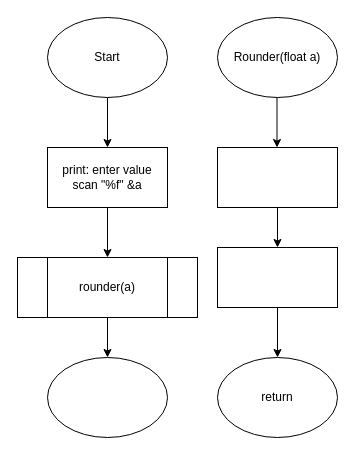
This 355x455 diagram has some shape labels left out. The shapes that lost their labels are listed below. From the top down, each one's centre as x and y in pixels, then its label:
point 277,177: b = (int)(a+0.5)
point 277,277: print "%d" b
point 107,397: End
